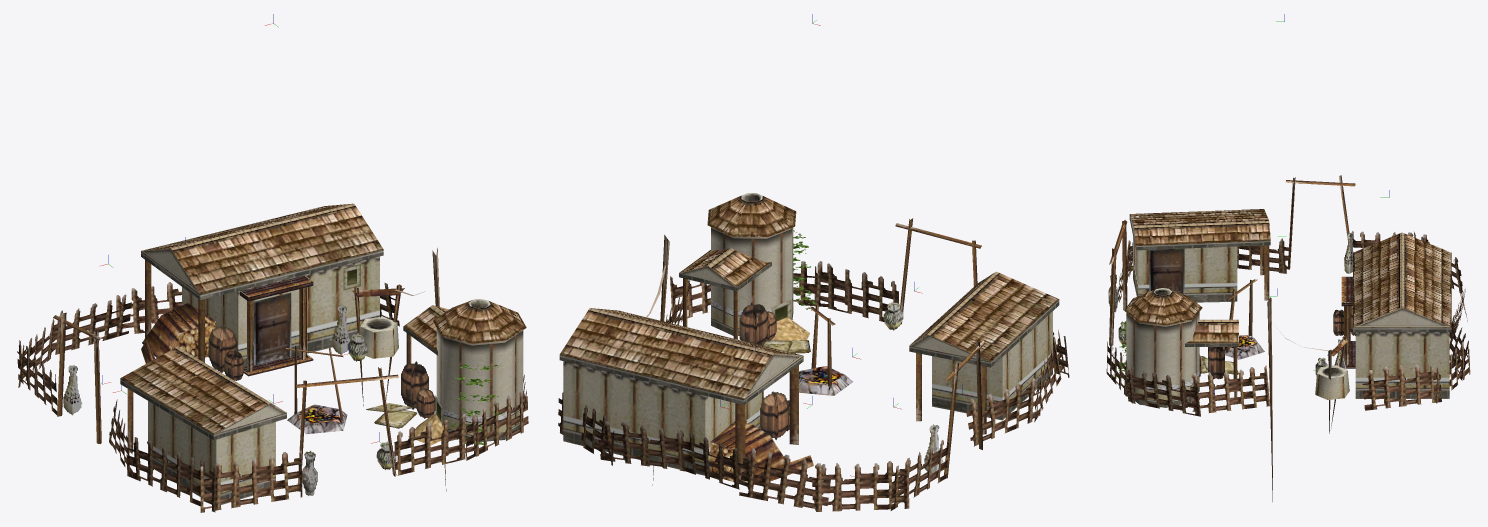
Rendered from greek-town-center-age0.glb.
The picture shows the model from 3 angles, left to right: view 1: azimuth 30°, elevation 25°; view 2: azimuth 150°, elevation 25°; view 3: azimuth 270°, elevation 25°; orthographic projection. The views are drawn at different scales.
Parts seen in each view (by area): view 1: building g settlement0Model; view 2: building g settlement0Model; view 3: building g settlement0Model.
Boxes of the visible parts, x1,y1,x2,y2 form: building g settlement0Model: [17, 203, 528, 512]; building g settlement0Model: [558, 193, 1069, 511]; building g settlement0Model: [1106, 175, 1470, 501].
Bounding box in the file's own units: 10.5 × 13.62 × 10.62.
5 materials, 4 textured.
